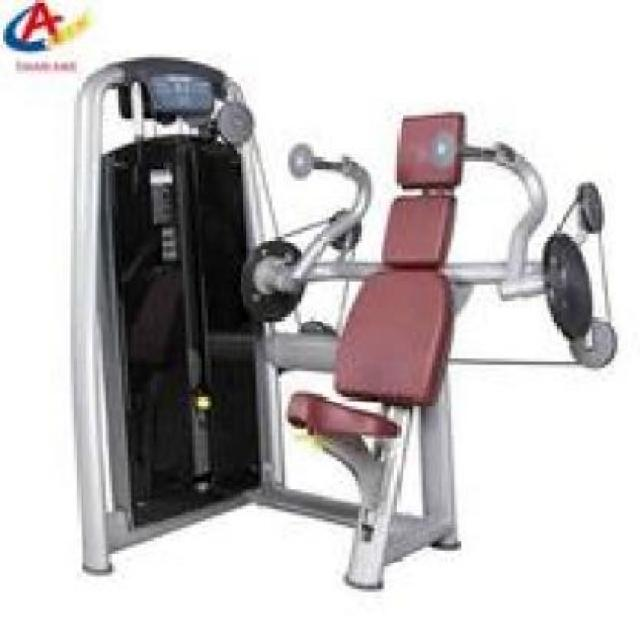seated dip machine: (72, 77, 620, 591)
